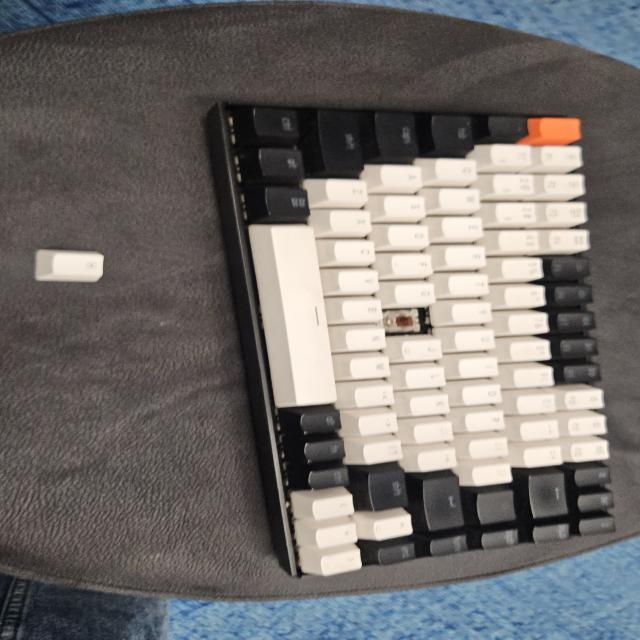C: (391, 310, 421, 335)
